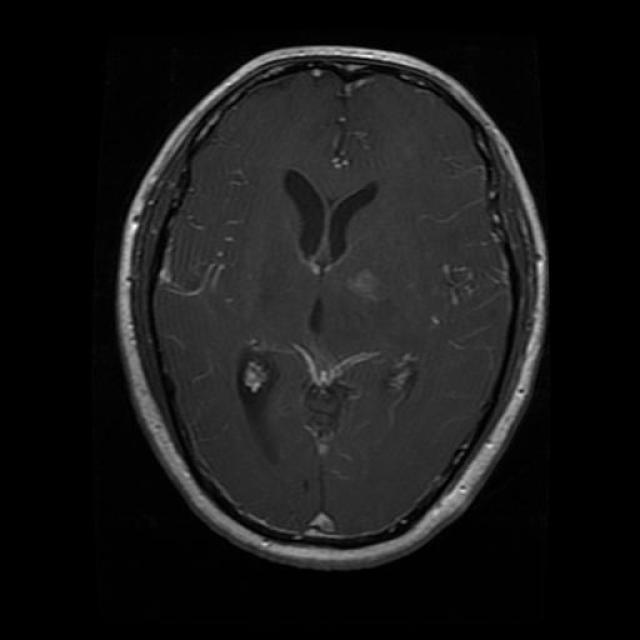glioma: (282, 155, 388, 276)
